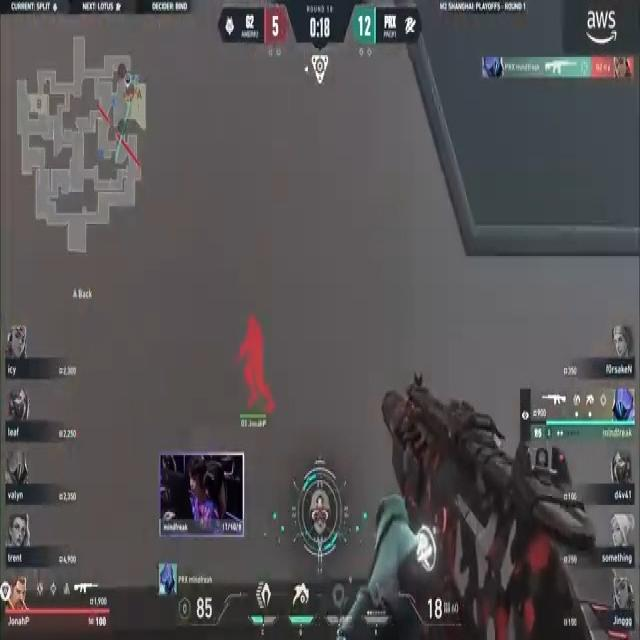enemy behind wall: (232, 313, 286, 430)
